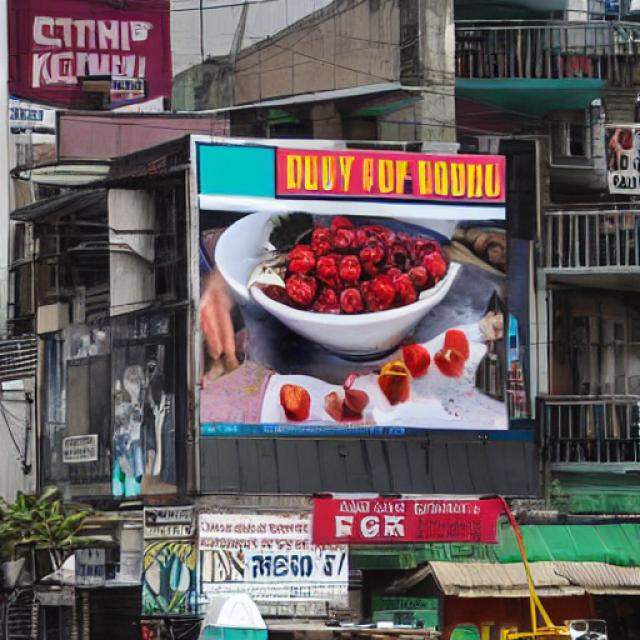Billboard: (188, 144, 513, 427)
